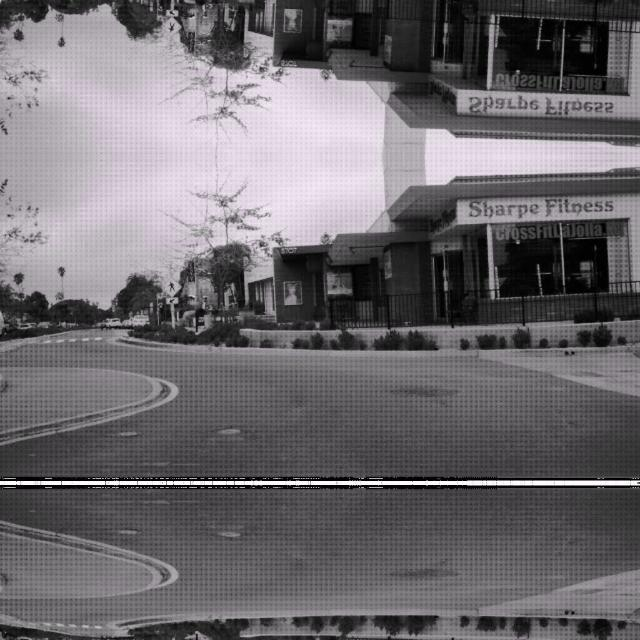pedestrianCrossing: (160, 274, 182, 296), (160, 16, 182, 38)
